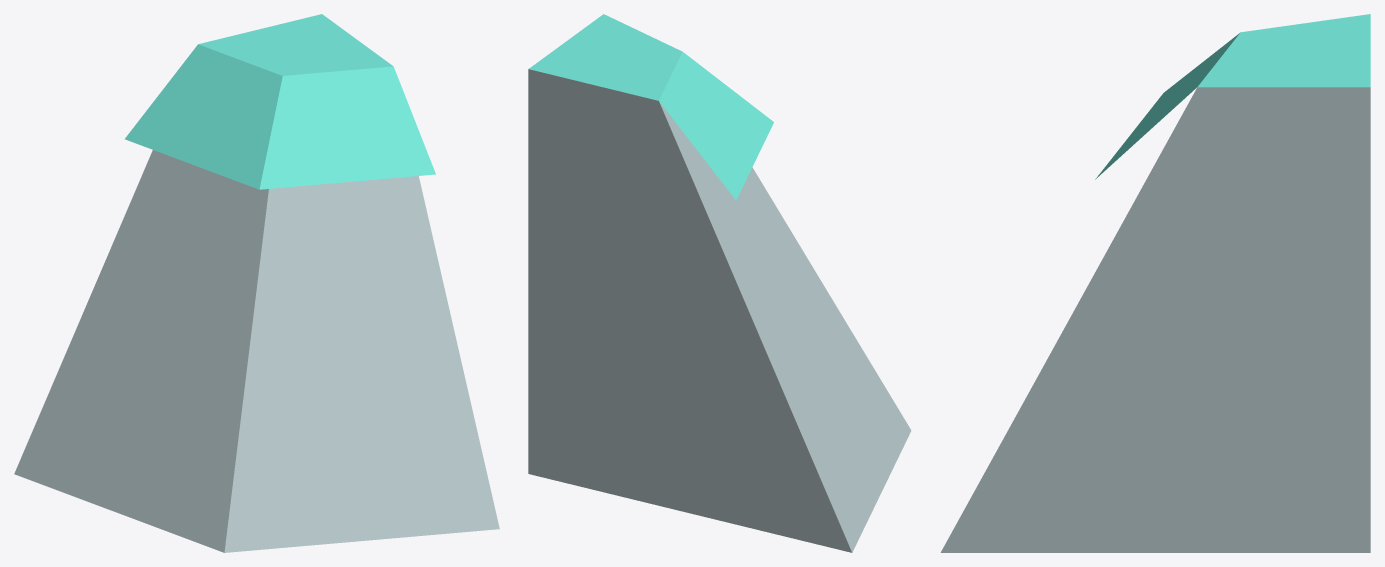
Rendered from cliff_halfCorner_stone.gltf.
The picture shows the model from 3 angles, left to right: view 1: azimuth 30°, elevation 25°; view 2: azimuth 150°, elevation 25°; view 3: azimuth 270°, elevation 25°; orthographic projection. The views are drawn at different scales.
Visible parts, largest first — view 1: cliff_halfCorner_stone; view 2: cliff_halfCorner_stone; view 3: cliff_halfCorner_stone.
Part boxes in pixels (x1,y1,x2,y2): cliff_halfCorner_stone: [14, 14, 499, 552]; cliff_halfCorner_stone: [528, 14, 911, 552]; cliff_halfCorner_stone: [940, 14, 1370, 552].
Size of the model in its own units: 0.4185 by 0.5 by 0.4185.
